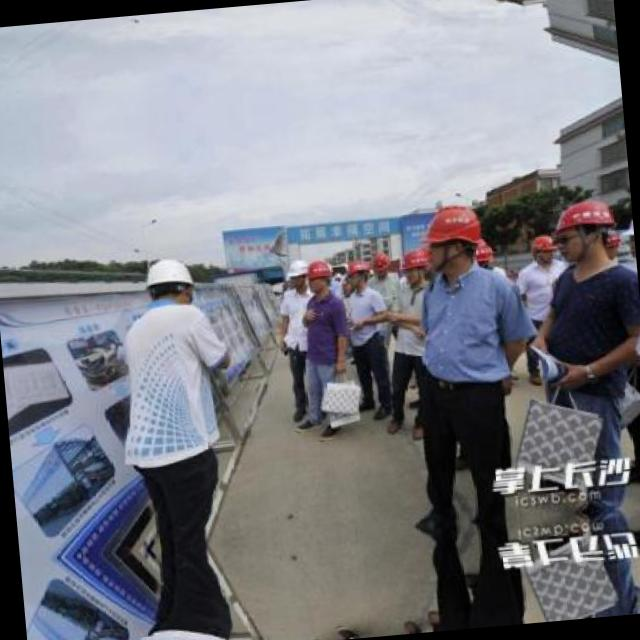helmet: (418, 202, 482, 273), (546, 196, 612, 262), (142, 253, 198, 310), (397, 244, 428, 283), (528, 230, 556, 266), (466, 234, 492, 270), (342, 258, 370, 290), (304, 259, 328, 292), (284, 258, 308, 290), (368, 248, 392, 278)
